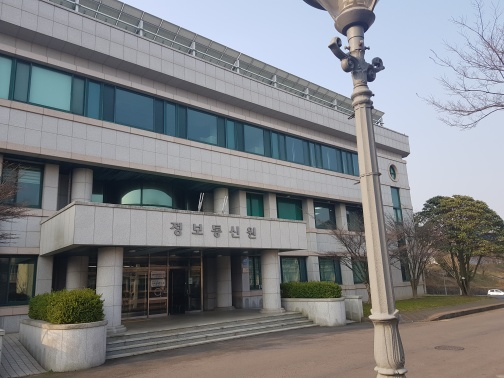Information Telecommunication Center: (1, 3, 433, 318), (1, 11, 342, 366), (48, 202, 327, 346), (159, 212, 275, 255)
